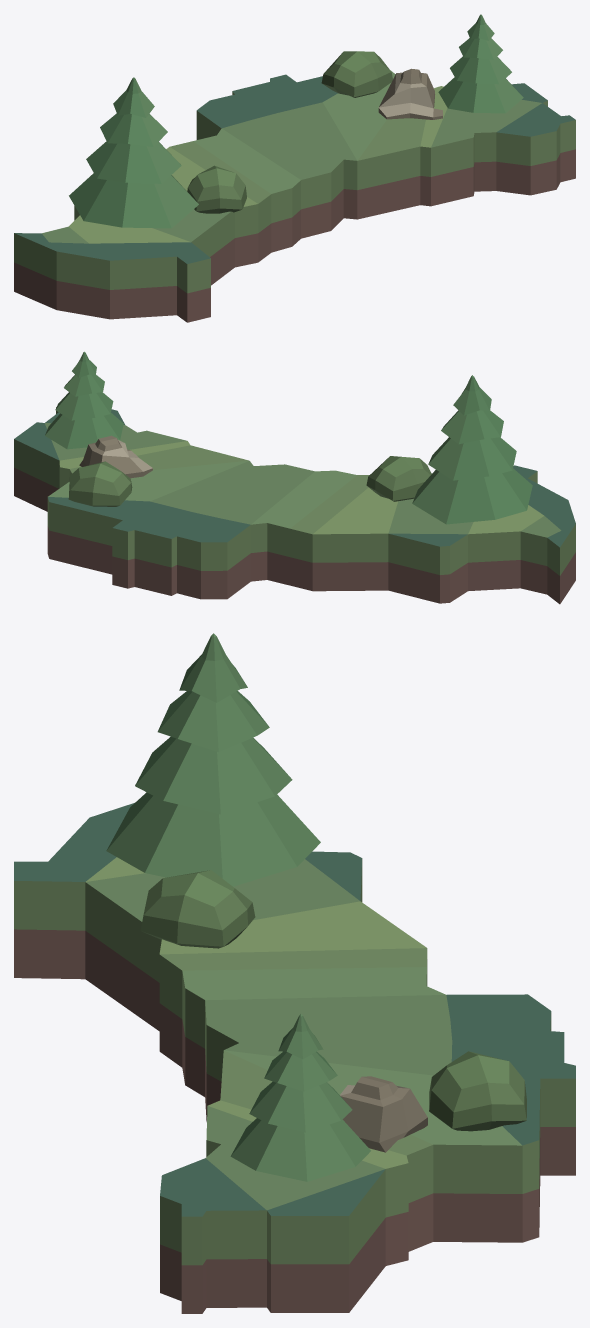
Rendered from pokrovsk.gltf.
3 views of the same model, one above another, from view 1: azimuth 30°, elevation 25°; view 2: azimuth 150°, elevation 25°; view 3: azimuth 270°, elevation 25° (orthographic). The views are drawn at different scales.
Parts seen in each view (by area): view 1: покровск; view 2: покровск; view 3: покровск.
Boxes of the visible parts, x1=… form: покровск: x1=14, y1=14, x2=575, y2=322; покровск: x1=14, y1=351, x2=575, y2=604; покровск: x1=14, y1=633, x2=575, y2=1313.
Size of the model in its own units: 1.5 by 0.5325 by 0.8187.
